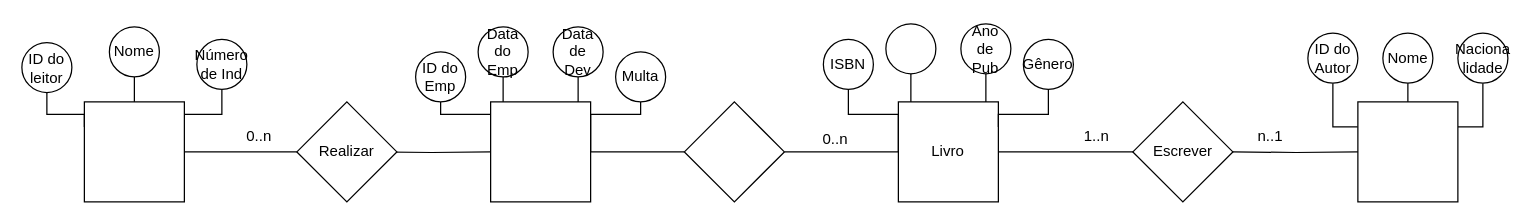
The diagram is 1533 pixels wide and 224 high, and some of its shapes have lost their labels. Each missing label, with the centre of its shape:
"Autor" belongs at (x=1407, y=151).
"Emprestar" belongs at (x=733, y=151).
"Empréstimo" belongs at (x=540, y=151).
"Leitor" belongs at (x=133, y=151).
"Título" belongs at (x=910, y=48).
